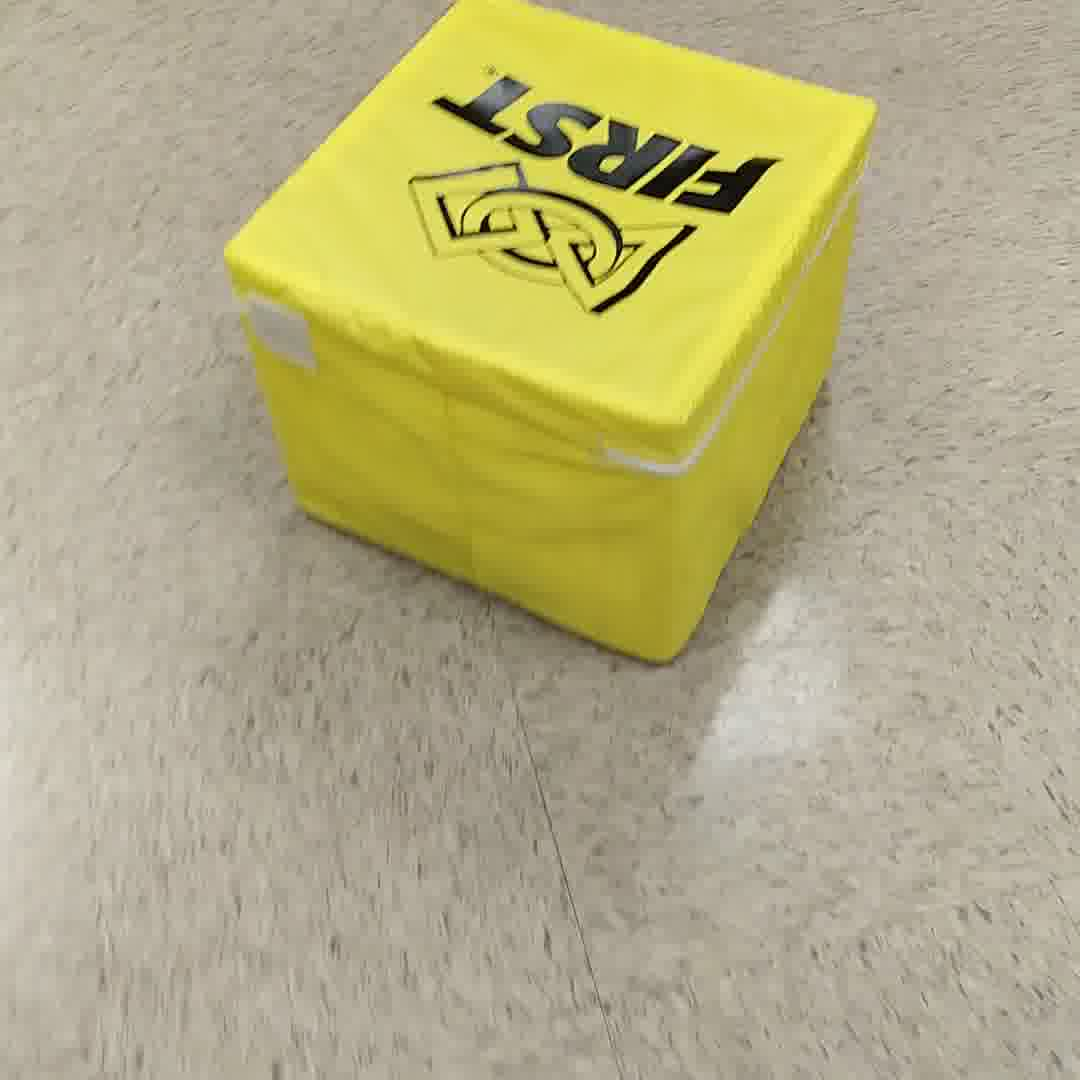box: (211, 1, 883, 687)
